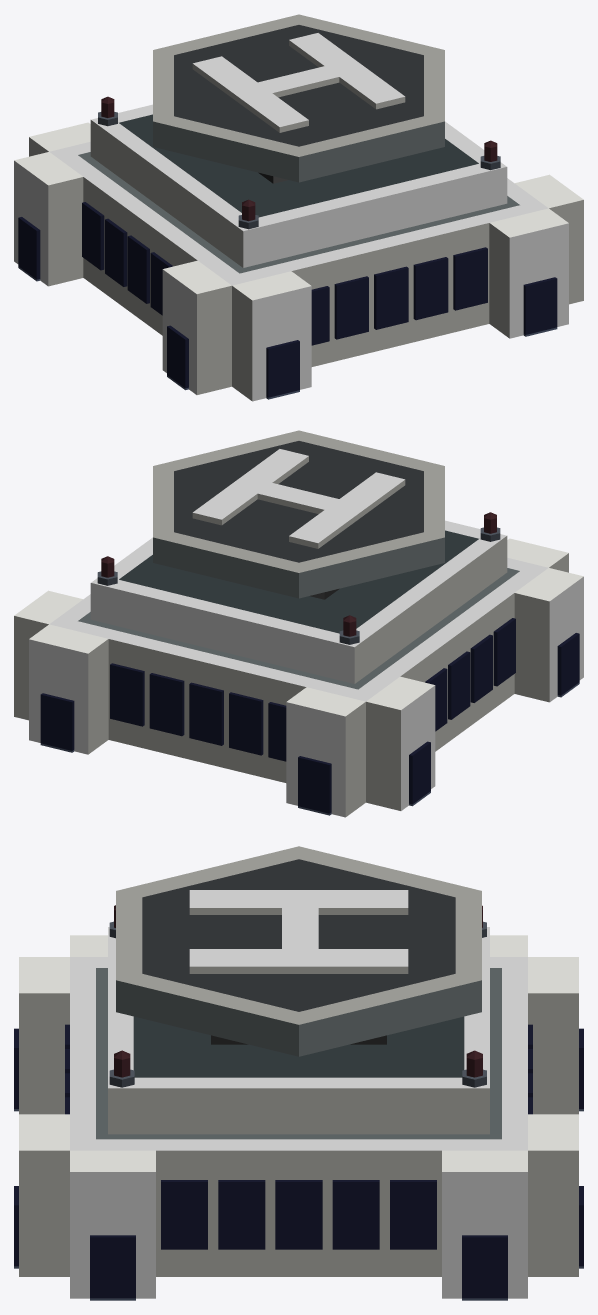
The model's file is TB_CITY_Skysc_I_Top_Gray.FBX.
The picture shows the model from 3 angles, top to bottom: view 1: azimuth 30°, elevation 25°; view 2: azimuth 150°, elevation 25°; view 3: azimuth 270°, elevation 25°; orthographic projection. The views are drawn at different scales.
Visible parts, largest first — view 1: TB_CITY_Skysc_I_Top_Gray; view 2: TB_CITY_Skysc_I_Top_Gray; view 3: TB_CITY_Skysc_I_Top_Gray.
Boxes of the visible parts, <box> form: TB_CITY_Skysc_I_Top_Gray: <box>14,14,583,401</box>; TB_CITY_Skysc_I_Top_Gray: <box>14,430,583,817</box>; TB_CITY_Skysc_I_Top_Gray: <box>14,846,583,1300</box>.
Size of the model in its own units: 22.4 by 10.92 by 22.4.
